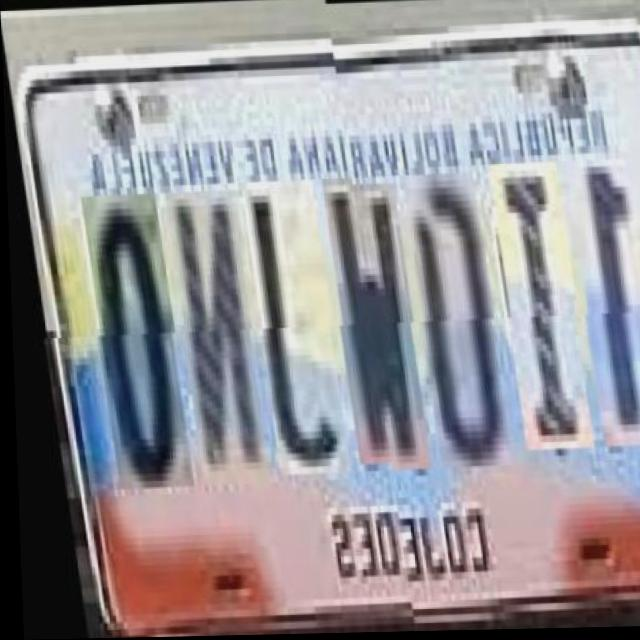0: (393, 173, 498, 469)
1: (557, 161, 640, 449)
i: (479, 164, 579, 452)
j: (233, 186, 337, 483)
n: (156, 195, 257, 492)
o: (72, 198, 180, 495)
w: (314, 183, 418, 472)
